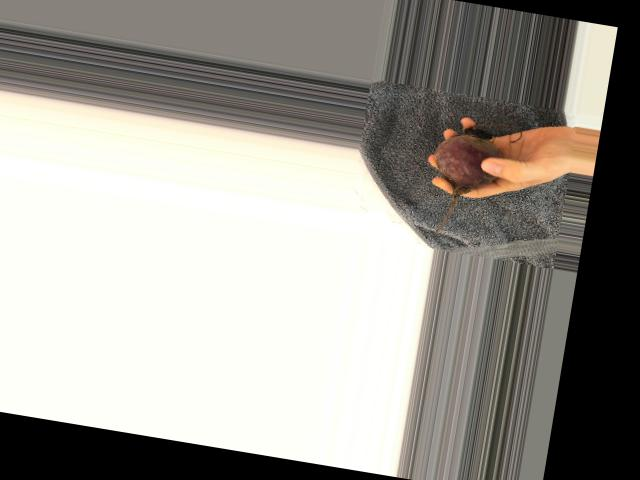beet: (421, 122, 507, 243)
